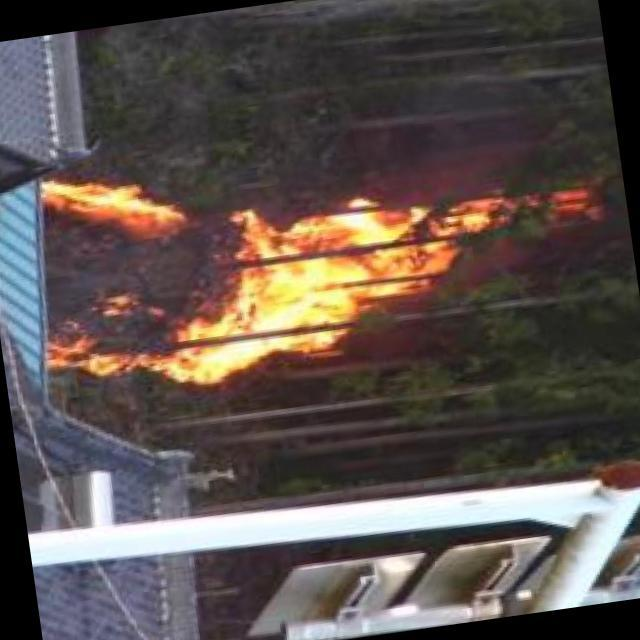Fire: (17, 108, 539, 404)
